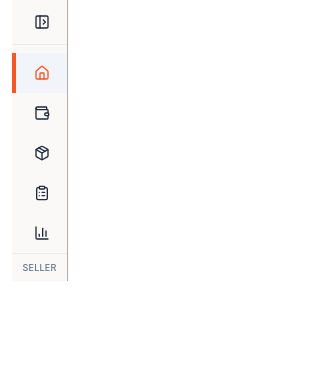
Test case: Sidebar › starts collapsed on desktop and can expand to show Current Mode
What coordinates should you click on to do the following:
click the button named "Expand navigation"
I would click on:
 (40, 22)
Its box is [24,8,56,36].
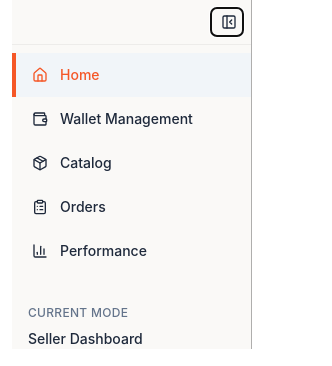
expect the button named "Collapse navigation" is shown: met, box [211,8,243,36]
expect the text "Seller Dashboard" is shown 2 times: met
expect the text "Current Mode" is shown 2 times: met
